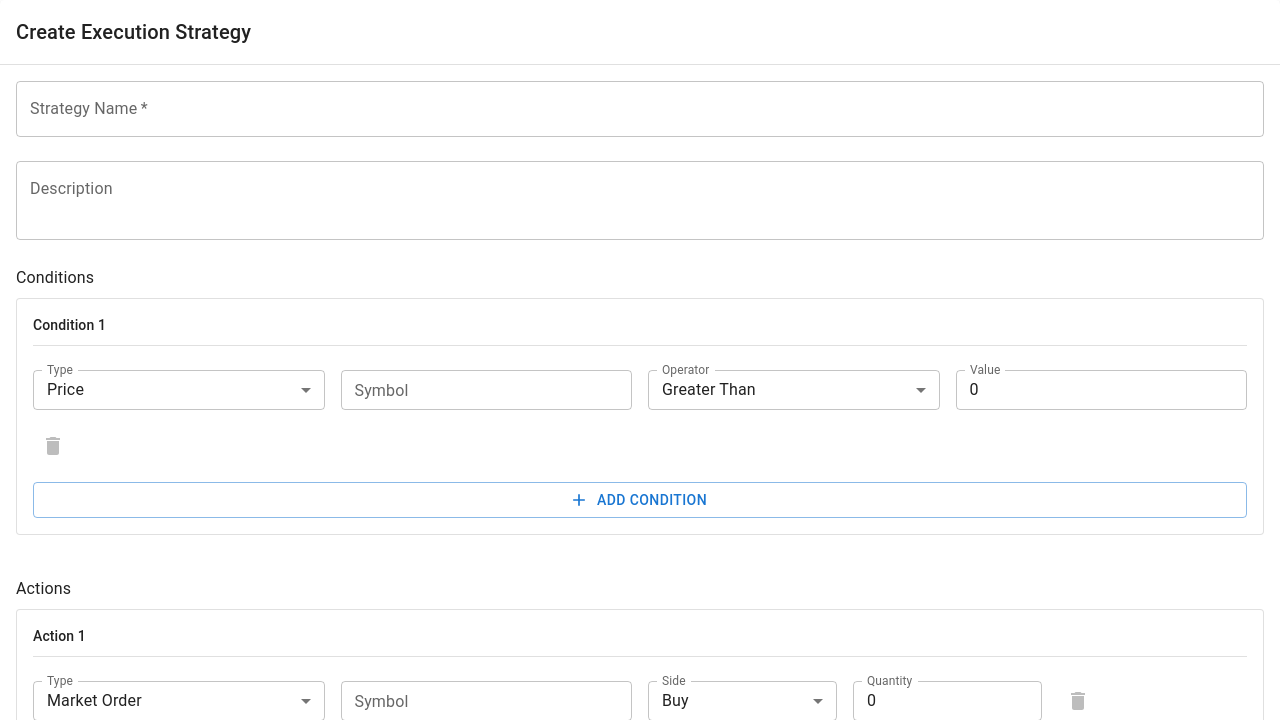
ExecutionRulesBuilder › adds and removes conditions
Expected: the heading "Condition 1" is shown, [33,317,106,333]
Note: Add a new condition
What coordinates should you click on to do the following:
click the button "Add Condition"
I would click on:
 (640, 500)
Its box is [33,482,1247,518].
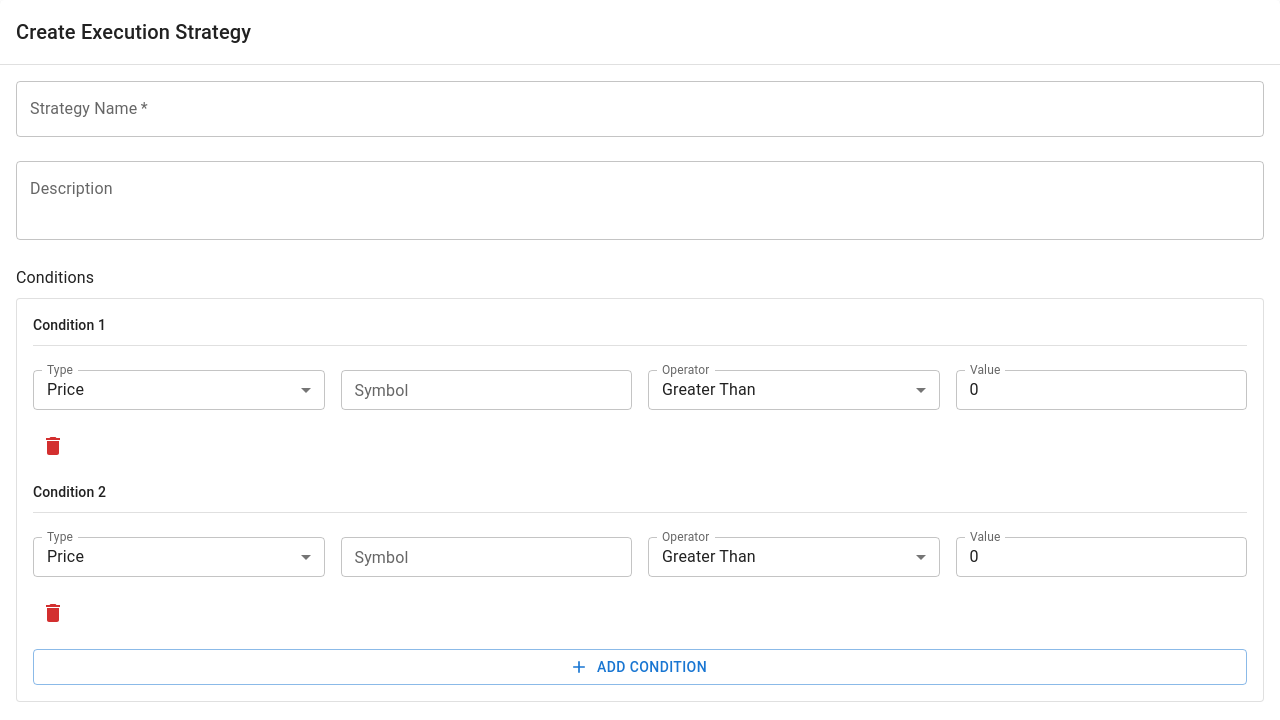
Expected: the heading "Condition 1" is shown, [33,317,106,333]
Expected: the heading "Condition 2" is shown, [33,484,106,500]
Note: Remove the second condition
What coordinates should you click on to do the following:
click the 2nd button
I would click on:
 (53, 612)
Its box is [33,592,73,632].
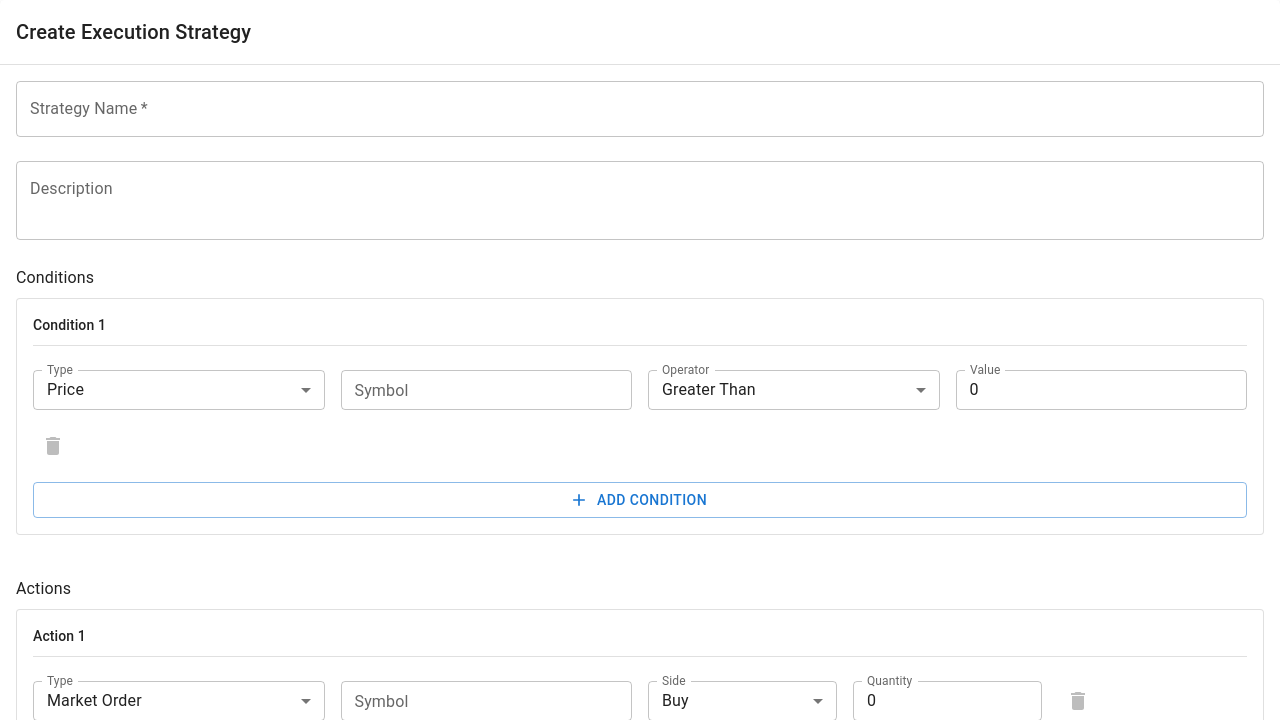
Expected: the heading "Condition 1" is shown, [33,317,106,333]
Expected: the heading "Condition 2" is gone
